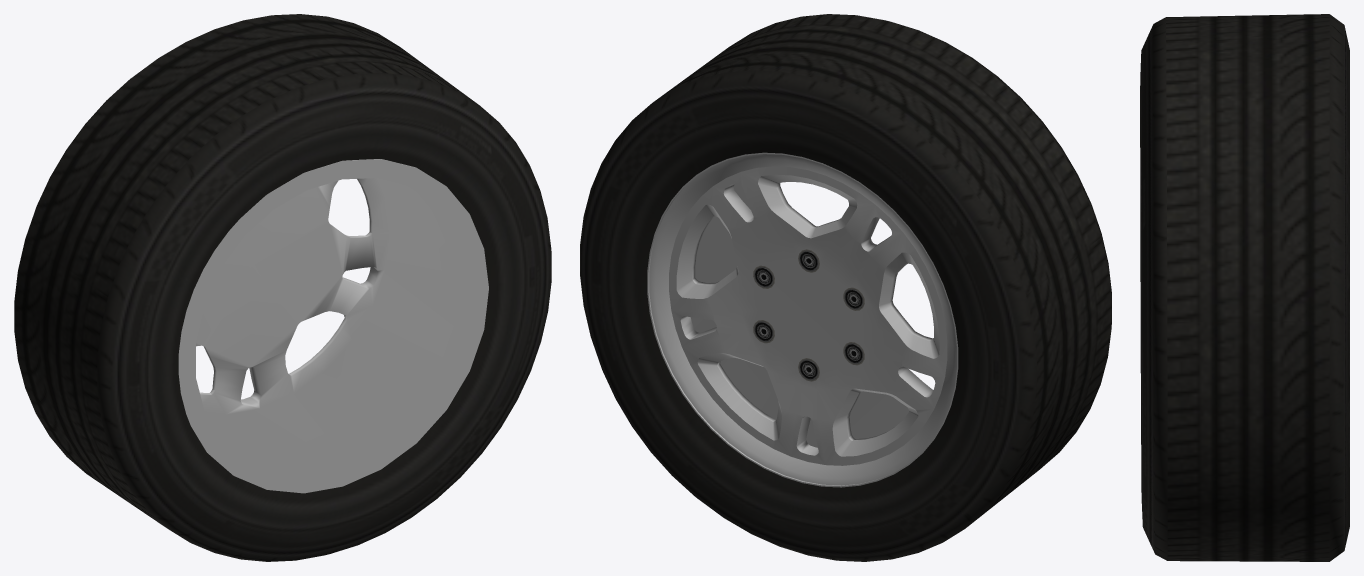
3 views of the same model, side by side, from view 1: azimuth 30°, elevation 25°; view 2: azimuth 150°, elevation 25°; view 3: azimuth 270°, elevation 25° (orthographic). The views are drawn at different scales.
Visible parts, largest first — view 1: U805_4A_901B_L_U805_4A_901B_L_3_DM, U805_4A_901B_L_U805_4A_901B_L_2_DaS; view 2: U805_4A_901B_L_U805_4A_901B_L_3_DM, U805_4A_901B_L_U805_4A_901B_L_2_DaS, U805_4A_901B_L_1_D_U805_4A_901B_L; view 3: U805_4A_901B_L_U805_4A_901B_L_3_DM.
Boxes of the visible parts, x1=… form: U805_4A_901B_L_U805_4A_901B_L_3_DM: x1=14, y1=14, x2=551, y2=561; U805_4A_901B_L_U805_4A_901B_L_2_DaS: x1=178, y1=159, x2=488, y2=493; U805_4A_901B_L_U805_4A_901B_L_3_DM: x1=580, y1=14, x2=1111, y2=561; U805_4A_901B_L_U805_4A_901B_L_2_DaS: x1=647, y1=152, x2=958, y2=487; U805_4A_901B_L_1_D_U805_4A_901B_L: x1=753, y1=249, x2=864, y2=381; U805_4A_901B_L_U805_4A_901B_L_3_DM: x1=1140, y1=14, x2=1349, y2=561.
Bounding box in the file's own units: 70.79 × 70.84 × 27.06.
